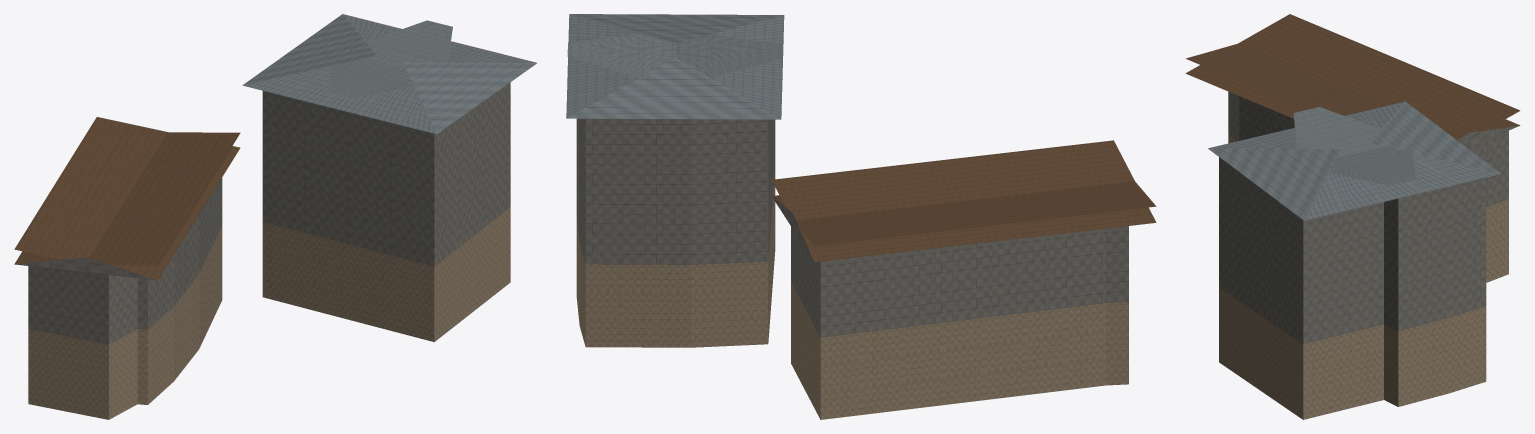
Rendered from bld_c-9_42_521.gltf.
3 views of the same model, side by side, from view 1: azimuth 30°, elevation 25°; view 2: azimuth 150°, elevation 25°; view 3: azimuth 270°, elevation 25° (orthographic). The views are drawn at different scales.
Parts seen in each view (by area): view 1: bld_c-9_42_521; view 2: bld_c-9_42_521; view 3: bld_c-9_42_521.
Boxes of the visible parts, left/top/right/bottom form: bld_c-9_42_521: left=14, top=14, right=536, bottom=419; bld_c-9_42_521: left=566, top=14, right=1156, bottom=419; bld_c-9_42_521: left=1185, top=14, right=1520, bottom=419.
Bounding box in the file's own units: 37.36 × 15.5 × 20.45.
Materials: 5 (5 with a texture image).
